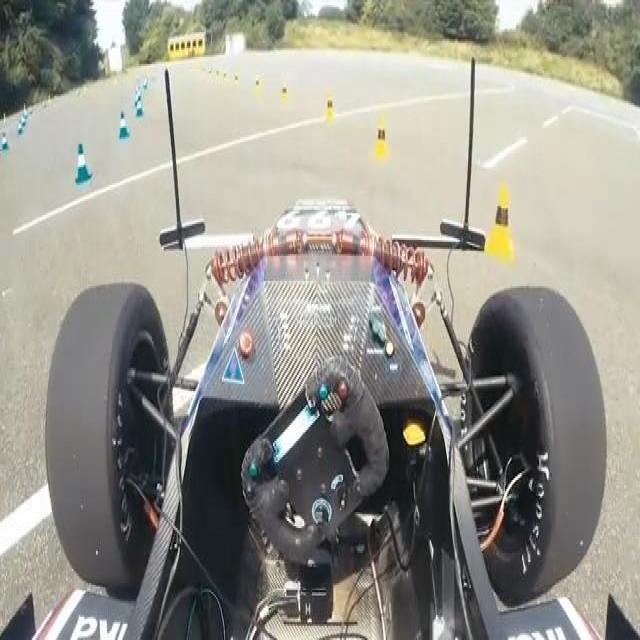blue_cone: (70, 140, 94, 190), (117, 110, 132, 142), (135, 94, 143, 119), (1, 132, 9, 156), (17, 121, 24, 141), (135, 89, 140, 107)
yellow_cone: (485, 172, 519, 270), (373, 118, 388, 162), (324, 92, 335, 124), (279, 82, 290, 105), (254, 77, 262, 95)
